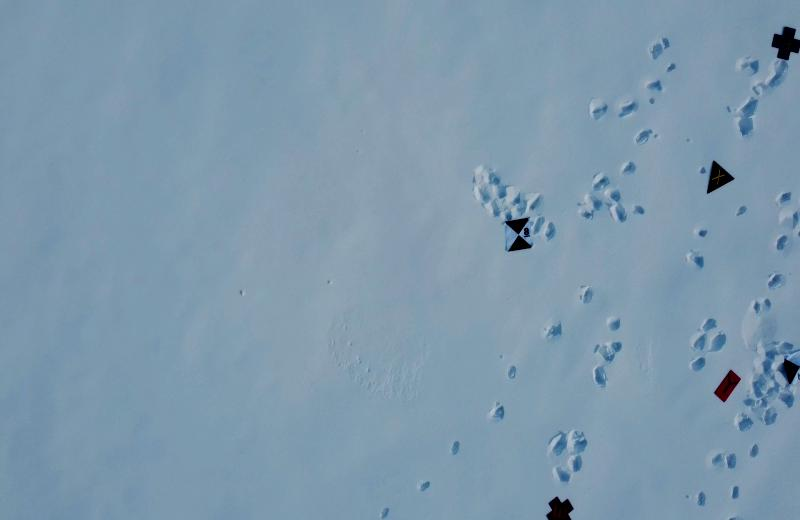Cross: (767, 23, 800, 63), (541, 492, 575, 520)
Rectangle: (712, 365, 743, 406)
Triangle: (702, 157, 736, 196)
